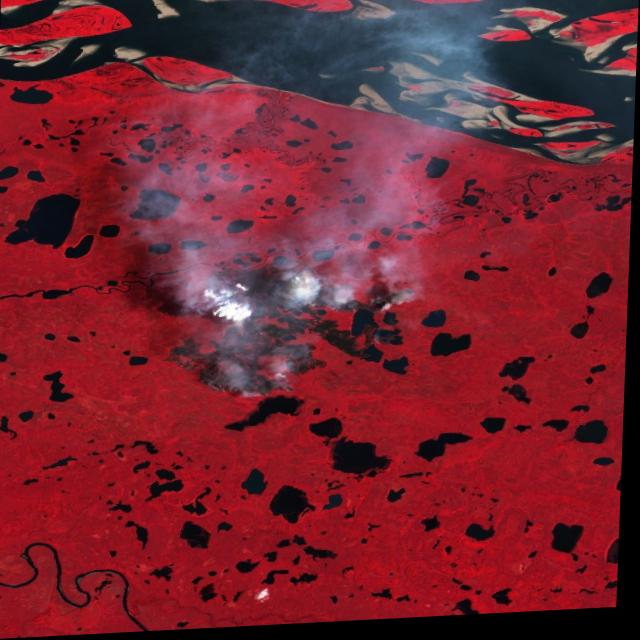fire: (187, 239, 436, 411)
